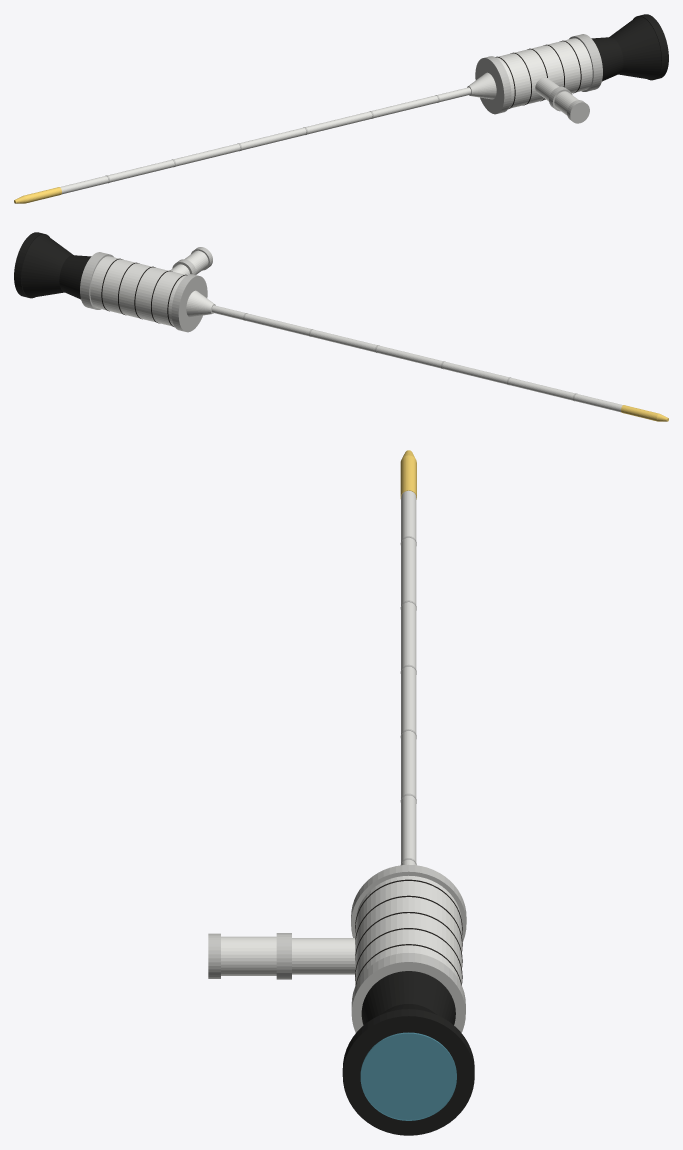
The model's file is arthroscope_model.fbx.
The picture shows the model from 3 angles, top to bottom: view 1: azimuth 30°, elevation 25°; view 2: azimuth 150°, elevation 25°; view 3: azimuth 270°, elevation 25°; orthographic projection. The views are drawn at different scales.
Visible parts, largest first — view 1: main_cylindrical_barrel, tube, flared_cup, front_ring, neck, rear_ring, rear_flat_rim, SCOPE_BODY, top_cap, vertical_cylinder, cylindrical_socket, tip; view 2: main_cylindrical_barrel, tube, flared_cup, front_ring, neck, rear_ring, rear_flat_rim, SCOPE_BODY, tip, cylindrical_socket; view 3: main_cylindrical_barrel, rear_flat_rim, glass_lens, tube, neck, rear_ring, vertical_cylinder, cylindrical_socket, front_ring.
Part boxes in pixels (x1,y1,x2,y2): main_cylindrical_barrel: (496,38,592,108); tube: (60,87,471,194); flared_cup: (609,16,661,79); front_ring: (475,56,511,114); neck: (591,37,623,81); rear_ring: (569,34,602,91); rear_flat_rim: (633,14,668,80); SCOPE_BODY: (467,72,496,99); top_cap: (567,100,589,123); vertical_cylinder: (535,77,559,101); cylindrical_socket: (554,91,578,115); tip: (24,187,61,203); main_cylindrical_barrel: (90,256,186,326); tube: (211,305,622,412); flared_cup: (21,234,73,297); front_ring: (171,274,207,332); neck: (59,255,91,299); rear_ring: (80,252,113,309); rear_flat_rim: (14,232,49,298); SCOPE_BODY: (186,290,215,317); tip: (621,405,658,421); cylindrical_socket: (184,250,208,274); main_cylindrical_barrel: (355,875,461,985); rear_flat_rim: (342,1009,474,1135); glass_lens: (360,1032,456,1120); tube: (401,490,416,865); neck: (361,971,455,1025); rear_ring: (351,953,465,1032); vertical_cylinder: (292,938,355,974); cylindrical_socket: (221,936,276,975); front_ring: (351,864,466,942).
Bounding box in the file's own units: 1162 × 104 × 210.
